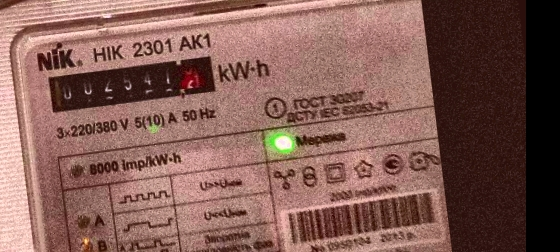0: (79, 74, 94, 97), (59, 79, 74, 101)
1: (160, 63, 173, 87)
2: (99, 71, 116, 94)
4: (140, 65, 153, 87)
5: (119, 68, 135, 93)
6: (183, 76, 196, 89)
screen: (34, 44, 228, 121)
